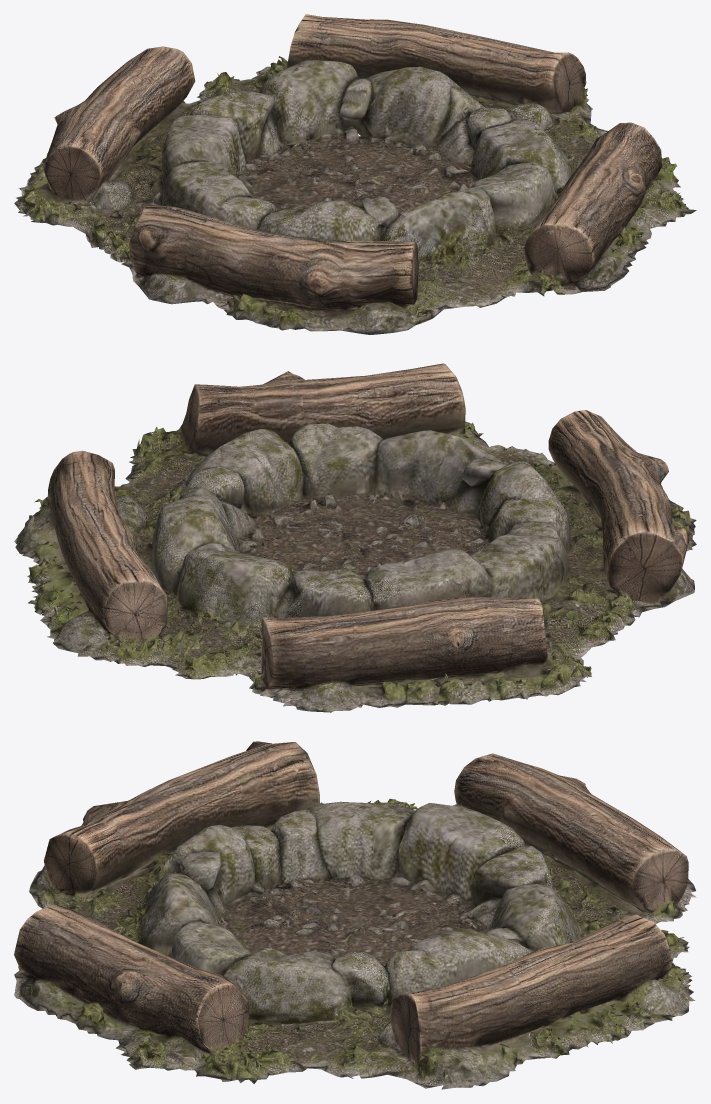
3 renders of one model, top to bottom at view 1: azimuth 30°, elevation 25°; view 2: azimuth 150°, elevation 25°; view 3: azimuth 270°, elevation 25°, orthographic. The views are drawn at different scales.
Parts seen in each view (by area): view 1: variant_0; view 2: variant_0; view 3: variant_0.
Boxes of the visible parts, x1,y1,x2,y2 form: variant_0: (14, 14, 696, 334); variant_0: (14, 363, 696, 712); variant_0: (14, 741, 696, 1089).
Bounding box in the file's own units: 1.88 × 0.2611 × 1.87.
1 material, 1 textured.
